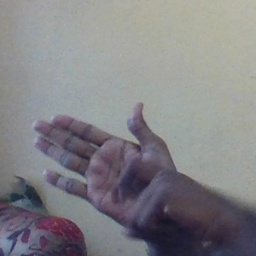R: (30, 93, 179, 234)
